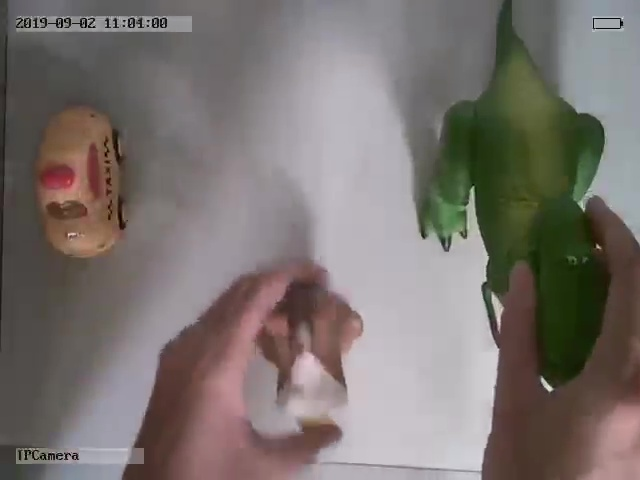car: (36, 104, 128, 258)
rex: (417, 7, 607, 385)
